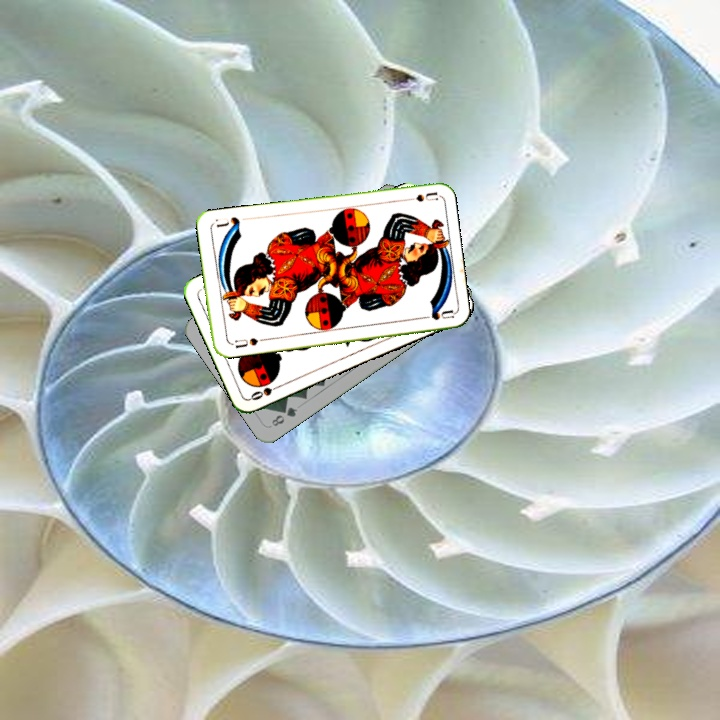G8: (267, 403, 300, 429)
SO: (246, 380, 285, 403)
SU: (398, 188, 439, 204), (226, 334, 260, 351)
